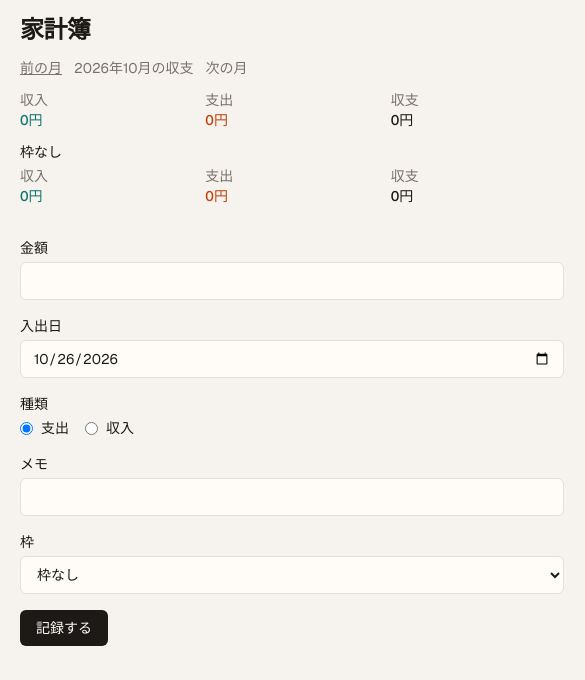
it: 収入を記録できる
Click the radio button labelled "収入" at coordinates (92, 428), box [85,422,98,434]
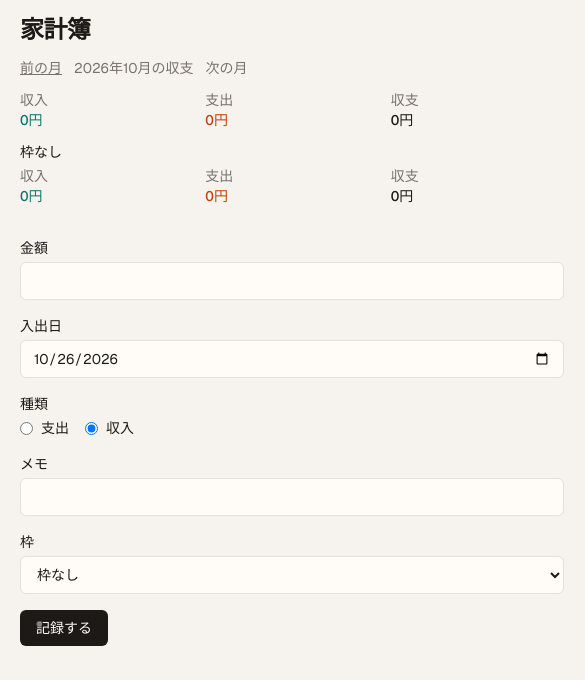
Type "200000" into the field labelled "金額" at coordinates (292, 281), box [20,262,564,300]
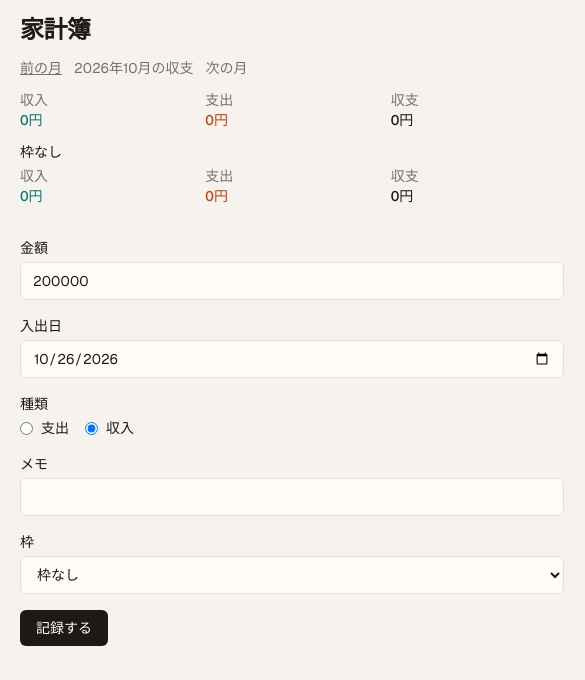
Click the button "記録する" at coordinates (64, 628), box [20,610,108,646]
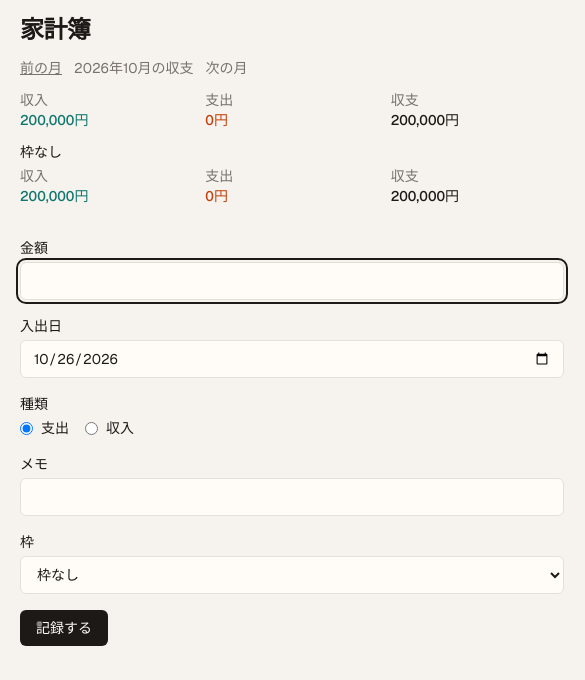
Result: the 1st text "200,000円" is shown at [20,111,88,129]
